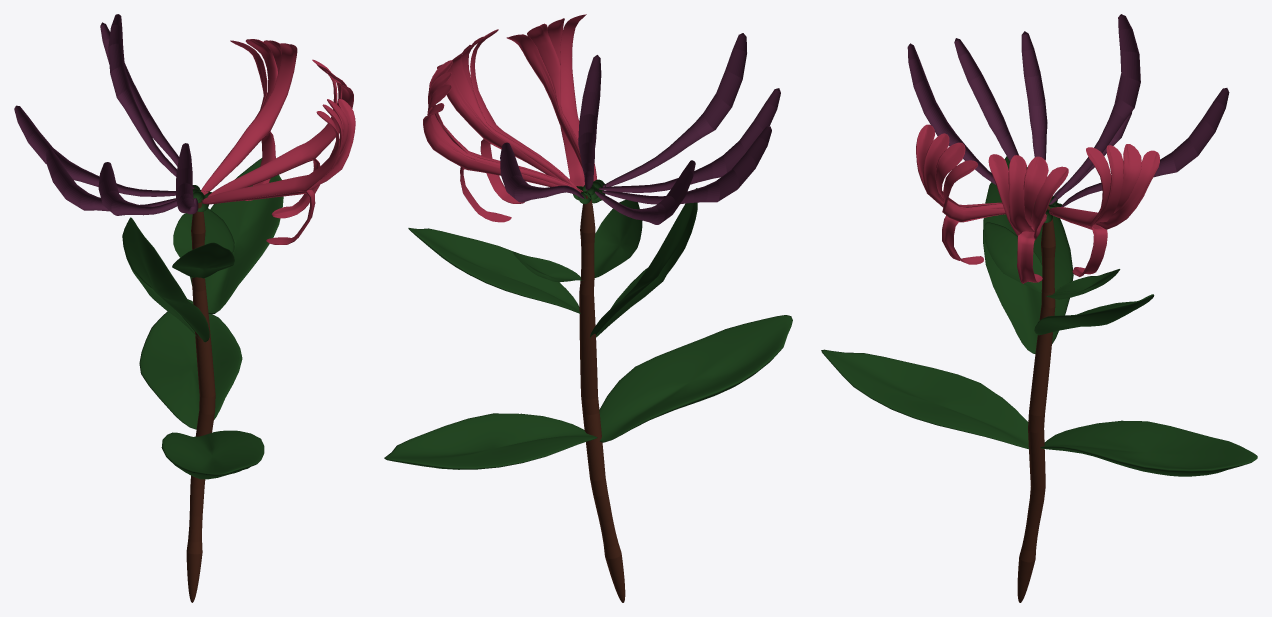
The model's file is colred.lonicera.periclymenum.obj.
3 views of the same model, side by side, from view 1: azimuth 30°, elevation 25°; view 2: azimuth 150°, elevation 25°; view 3: azimuth 270°, elevation 25° (orthographic). The views are drawn at different scales.
Parts seen in each view (by area): view 1: leaf1.004_Sphere.031_Material.002, leaf1.004_Sphere.031_outsideflower, leaf1.004_Sphere.031_Material.001, leaf1.004_Sphere.031_Material.003; view 2: leaf1.004_Sphere.031_Material.002, leaf1.004_Sphere.031_Material.001, leaf1.004_Sphere.031_outsideflower, leaf1.004_Sphere.031_Material.003; view 3: leaf1.004_Sphere.031_Material.002, leaf1.004_Sphere.031_outsideflower, leaf1.004_Sphere.031_Material.001, leaf1.004_Sphere.031_Material.003.
Part boxes in pixels (x1,y1,x2,y2): leaf1.004_Sphere.031_Material.002: [122, 158, 283, 479]; leaf1.004_Sphere.031_outsideflower: [201, 39, 355, 244]; leaf1.004_Sphere.031_Material.001: [14, 14, 198, 215]; leaf1.004_Sphere.031_Material.003: [186, 202, 215, 602]; leaf1.004_Sphere.031_Material.002: [384, 179, 792, 469]; leaf1.004_Sphere.031_Material.001: [500, 33, 780, 224]; leaf1.004_Sphere.031_outsideflower: [423, 14, 596, 222]; leaf1.004_Sphere.031_Material.003: [579, 190, 625, 602]; leaf1.004_Sphere.031_Material.002: [821, 156, 1257, 476]; leaf1.004_Sphere.031_outsideflower: [916, 124, 1159, 283]; leaf1.004_Sphere.031_Material.001: [907, 14, 1229, 206]; leaf1.004_Sphere.031_Material.003: [1017, 206, 1055, 602].
Bounding box in the file's own units: 1.87 × 3.31 × 2.27.
